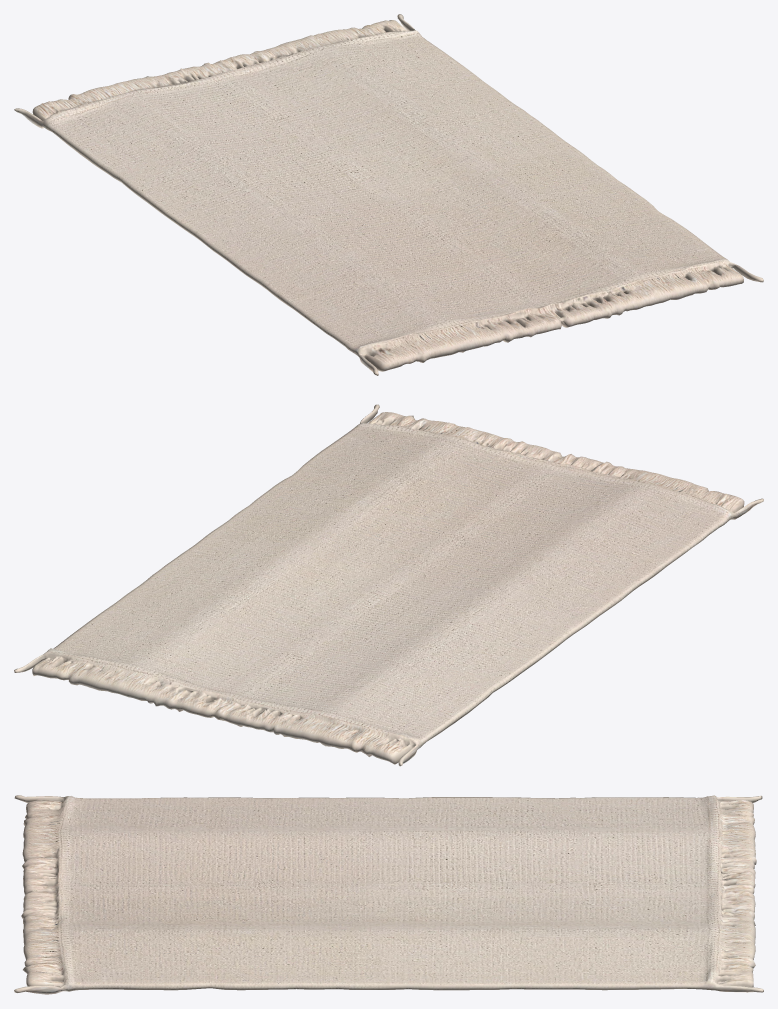
File: sortso-rug.glb
3 renders of one model, top to bottom at view 1: azimuth 30°, elevation 25°; view 2: azimuth 150°, elevation 25°; view 3: azimuth 270°, elevation 25°, orthographic. The views are drawn at different scales.
Parts seen in each view (by area): view 1: tripo_node_adc497b4-ebfe-464b-b5af-e5efc8e65f5e; view 2: tripo_node_adc497b4-ebfe-464b-b5af-e5efc8e65f5e; view 3: tripo_node_adc497b4-ebfe-464b-b5af-e5efc8e65f5e.
Boxes of the visible parts, x1=… form: tripo_node_adc497b4-ebfe-464b-b5af-e5efc8e65f5e: x1=14, y1=14, x2=763, y2=375; tripo_node_adc497b4-ebfe-464b-b5af-e5efc8e65f5e: x1=14, y1=404, x2=763, y2=766; tripo_node_adc497b4-ebfe-464b-b5af-e5efc8e65f5e: x1=14, y1=795, x2=763, y2=994.
Bounding box in the file's own units: 0.5372 × 0.0243 × 0.8708.
Materials: 1 (1 with a texture image).
